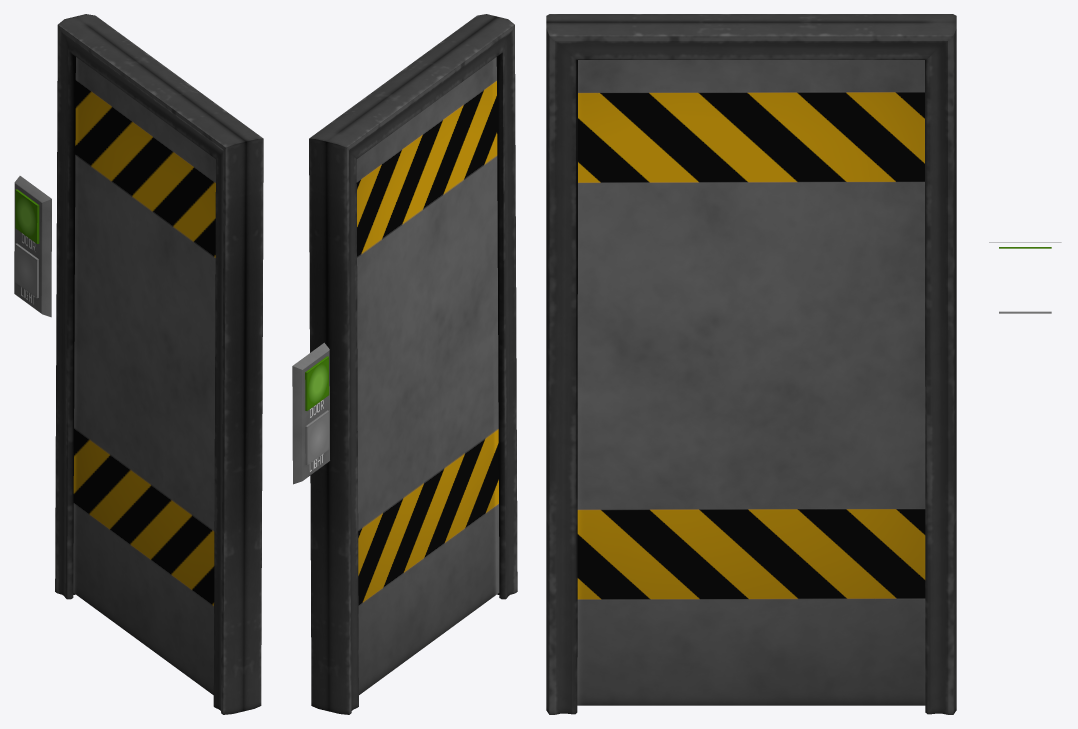
The model's file is puerta2.glb.
3 views of the same model, side by side, from view 1: azimuth 30°, elevation 25°; view 2: azimuth 150°, elevation 25°; view 3: azimuth 270°, elevation 25° (orthographic). The views are drawn at different scales.
Parts seen in each view (by area): view 1: Door_001_FloorsAndWalls_01_0, Door_Frame_001_FloorsAndWalls_02_0, Door_Panel_001; view 2: Door_001_FloorsAndWalls_01_0, Door_Frame_001_FloorsAndWalls_02_0, Door_Panel_001; view 3: Door_001_FloorsAndWalls_01_0, Door_Frame_001_FloorsAndWalls_02_0.
Boxes of the visible parts, x1,y1,x2,y2 form: Door_001_FloorsAndWalls_01_0: (73, 57, 215, 694); Door_Frame_001_FloorsAndWalls_02_0: (55, 14, 263, 714); Door_Panel_001: (14, 176, 51, 317); Door_001_FloorsAndWalls_01_0: (356, 57, 499, 694); Door_Frame_001_FloorsAndWalls_02_0: (309, 14, 517, 714); Door_Panel_001: (292, 342, 329, 484); Door_001_FloorsAndWalls_01_0: (577, 60, 925, 705); Door_Frame_001_FloorsAndWalls_02_0: (546, 14, 956, 714).
Bounding box in the file's own units: 0.1743 × 2.35 × 1.61.
Materials: 3 (3 with a texture image).
